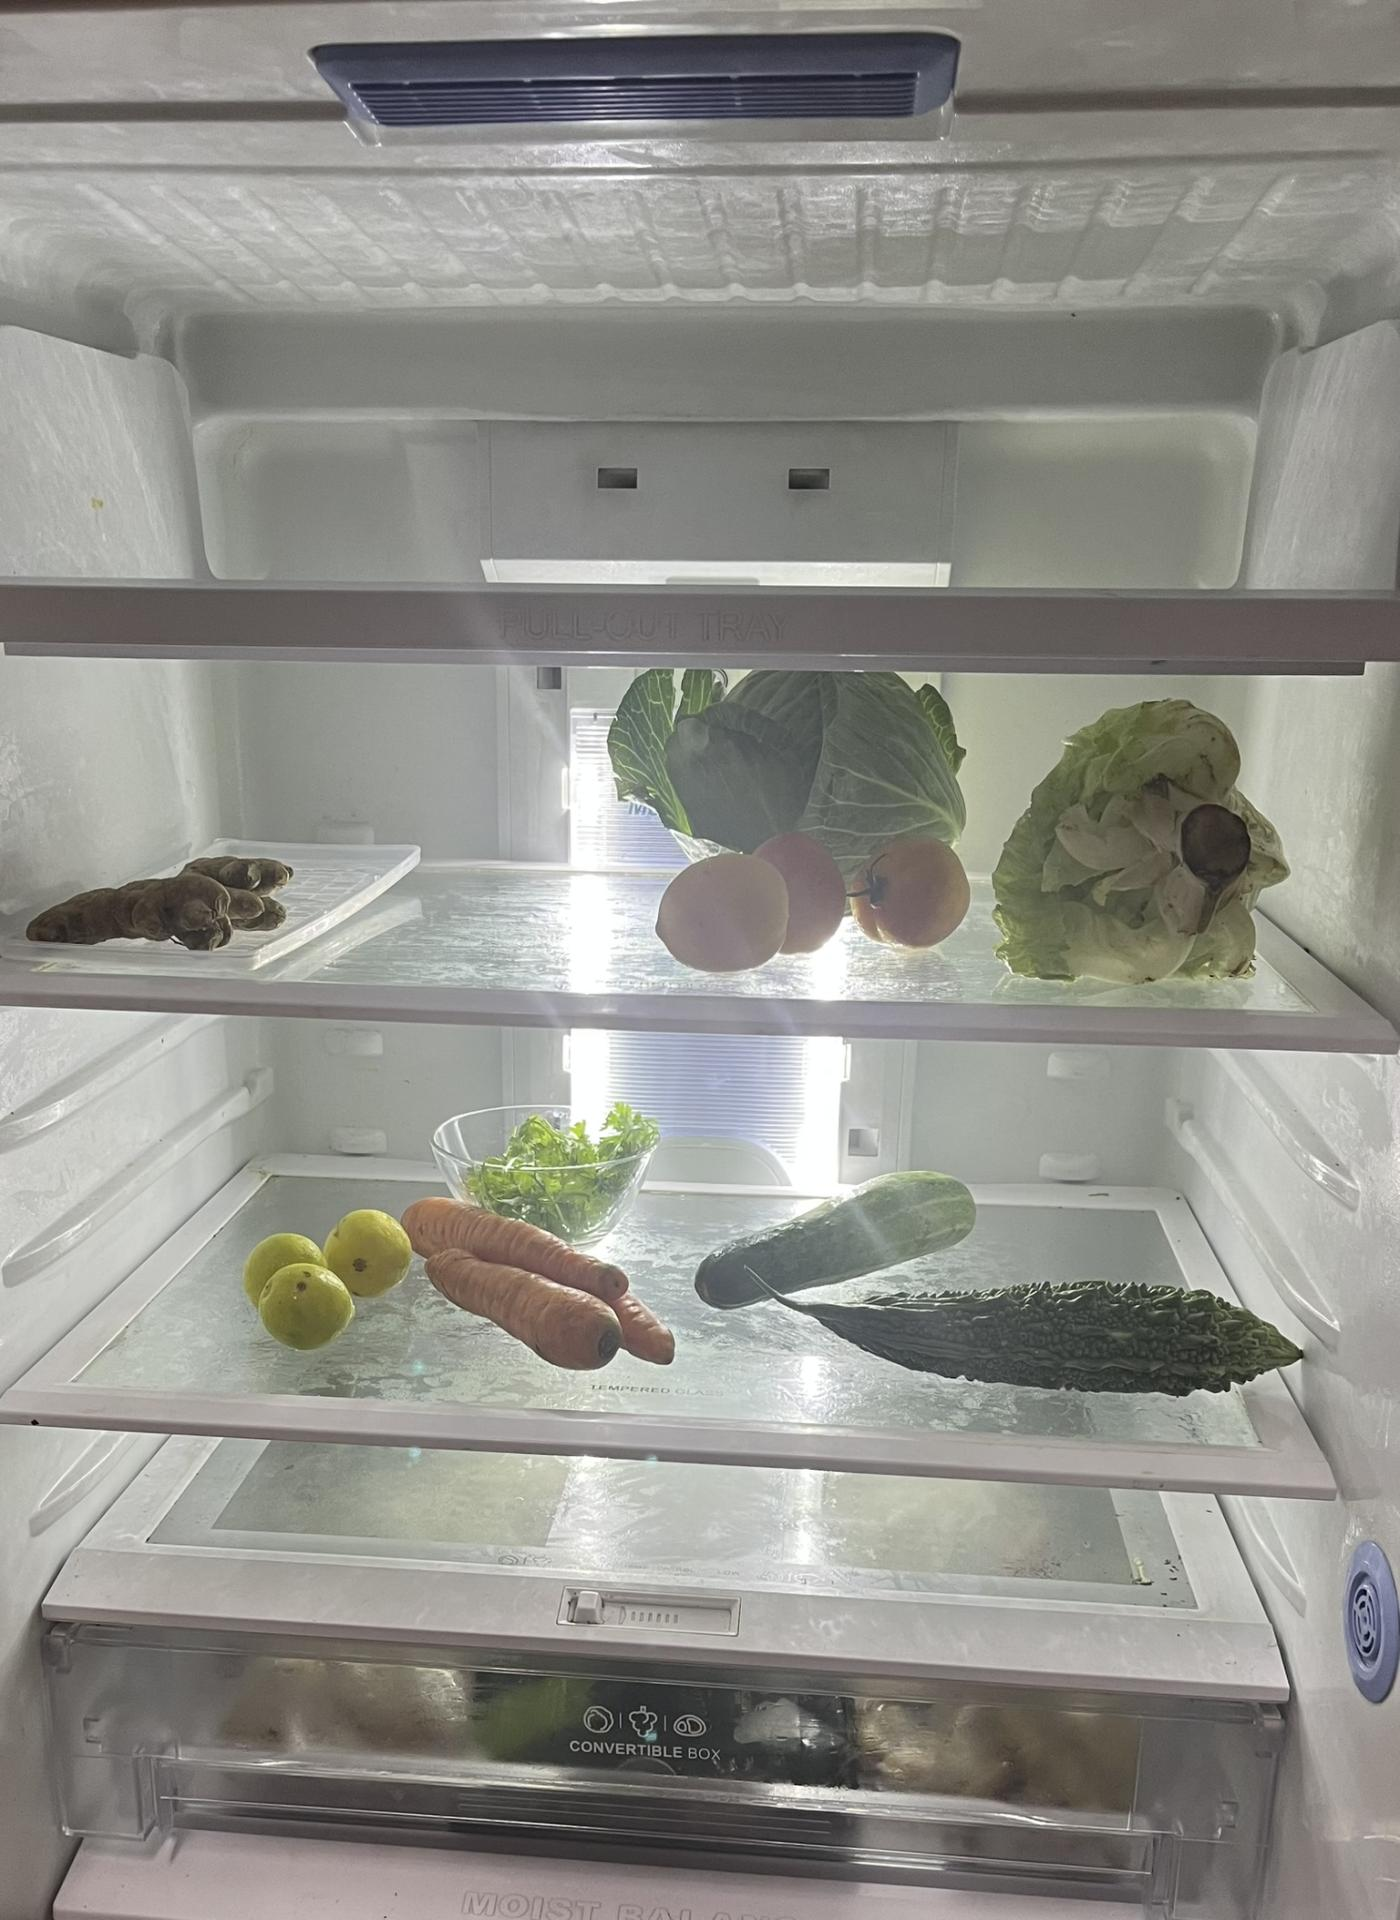cabbage: (617, 662, 993, 872)
carrots: (404, 1194, 702, 1382)
coriander: (447, 1100, 641, 1197)
cucumber: (690, 1166, 987, 1315)
ginger: (33, 850, 292, 950)
lemon: (234, 1209, 401, 1337)
lettuce: (987, 693, 1315, 990)
tomato: (644, 818, 854, 975), (857, 832, 969, 944)
